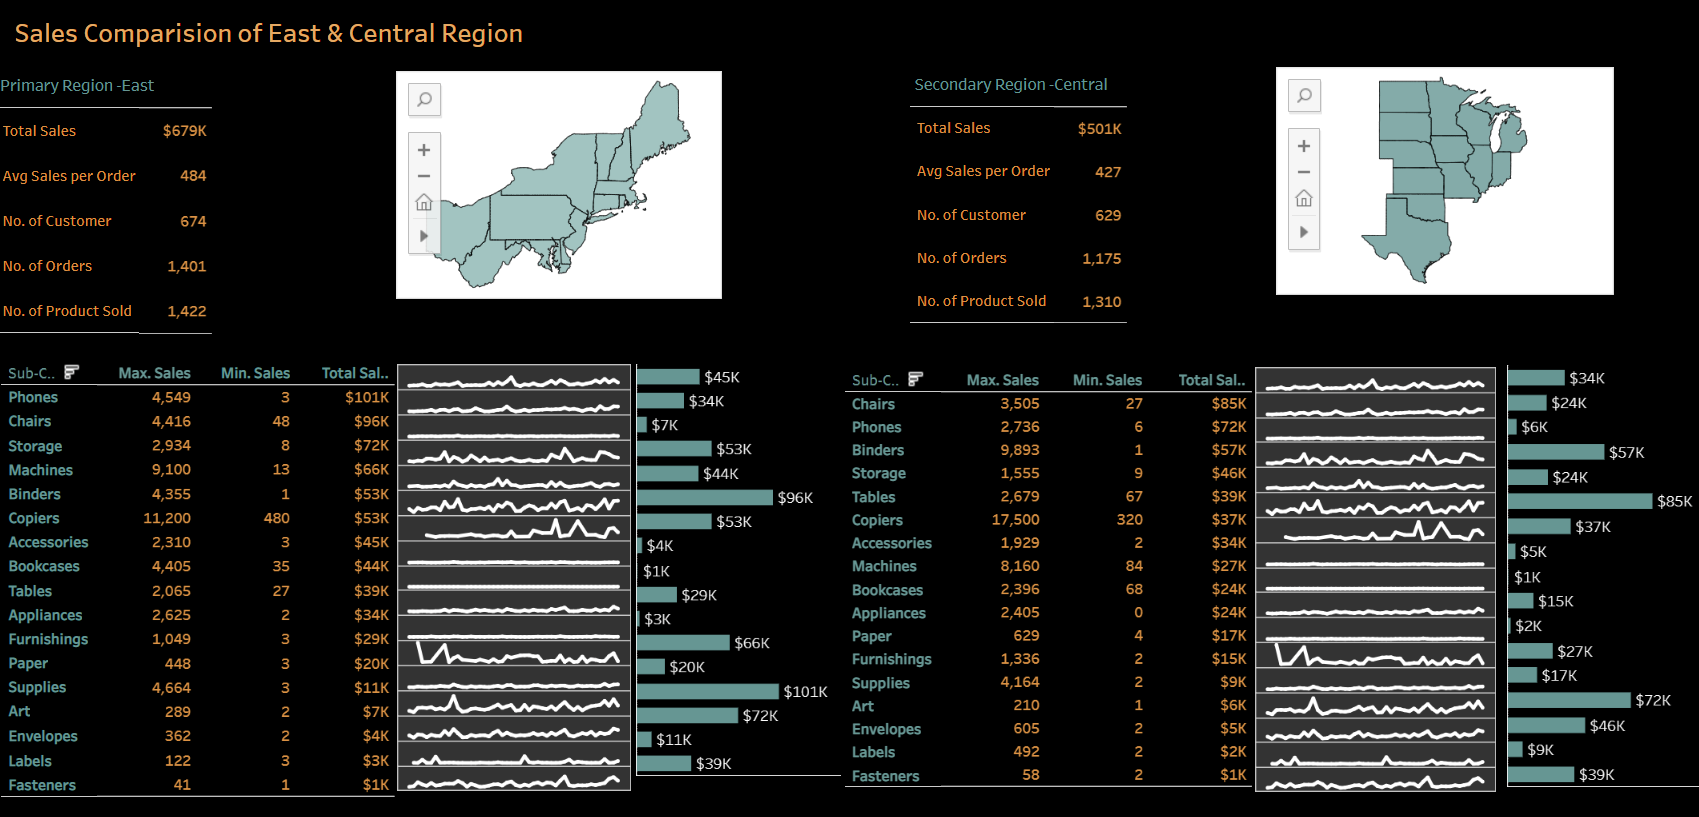

What the dashboard file says about the page in this screenshot:
{"tool":"tableau","page":{"name":"Project Dashboard","canvas":[1000,1000],"units":"permille","ordinal":0},"visuals":[{"type":"title","box":[5.6,10.5,988.7,48.7]},{"type":"worksheet","title":"Summary Central.","mark":"Automatic","box":[531,65.8,262.7,318.4]},{"type":"worksheet","title":"Central Region","mark":"Multipolygon","box":[748.6,73.7,198.6,250]},{"type":"worksheet","title":"East Region","mark":"Multipolygon","box":[232.4,77.6,191.6,250]},{"type":"worksheet","title":"Monthwise Subcategory Sales","mark":"Automatic","rows":["Sub-Category","Sales"],"cols":["Order Date"],"box":[230.3,393.4,143,480.3]},{"type":"worksheet","title":"East Subcategory Sales Bar","mark":"Automatic","rows":["Sub-Category"],"cols":["Sales"],"box":[370.4,393.4,126.1,463.2]},{"type":"worksheet","title":"Central Subcategory Sales Bar","mark":"Automatic","rows":["Sub-Category"],"cols":["Sales"],"box":[881.7,394.7,121.8,473.7]},{"type":"worksheet","title":"Central Sales Summary","mark":"Automatic","rows":["Sub-Category"],"box":[493,397.4,244.4,471.1]},{"type":"worksheet","title":"Monthwise Subcategory Sales (2)","mark":"Automatic","rows":["Sub-Category","Sales"],"cols":["Order Date"],"box":[733.8,397.4,147.2,477.6]}]}

Visuals, with their boxes on the dashboard's canvas, which has no fixed pixel size, in thousandths of its width and height (x1, y1, x2, y2). These are canvas units, not pixel positions in the 1699x817 screenshot, which may show the page scaled, cropped or inside an application window:
title: left=6, top=10, right=994, bottom=59
"Summary Central." worksheet: left=531, top=66, right=794, bottom=384
"Central Region" worksheet (Multipolygon marks): left=749, top=74, right=947, bottom=324
"East Region" worksheet (Multipolygon marks): left=232, top=78, right=424, bottom=328
"Monthwise Subcategory Sales" worksheet: left=230, top=393, right=373, bottom=874
"East Subcategory Sales Bar" worksheet: left=370, top=393, right=496, bottom=857
"Central Subcategory Sales Bar" worksheet: left=882, top=395, right=1004, bottom=868
"Central Sales Summary" worksheet: left=493, top=397, right=737, bottom=868
"Monthwise Subcategory Sales (2)" worksheet: left=734, top=397, right=881, bottom=875
